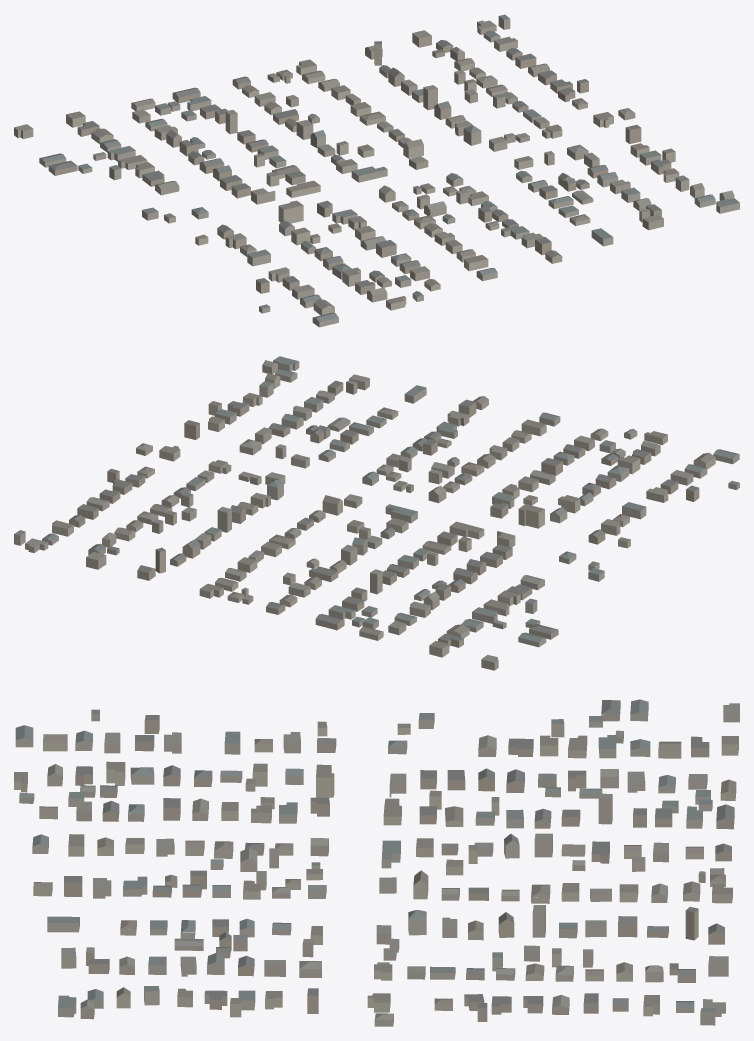
The model's file is 0d235c5c5238-chunk-1201_11840.glb.
3 renders of one model, top to bottom at view 1: azimuth 30°, elevation 25°; view 2: azimuth 150°, elevation 25°; view 3: azimuth 270°, elevation 25°, orthographic. The views are drawn at different scales.
Visible parts, largest first — view 1: no part large enough to name; view 2: building_126189; view 3: building_126189, building_25274.
Part boxes in pixels (box(x1,y1,x2,y2)): building_126189: box(518, 504, 544, 528); building_126189: box(316, 764, 334, 797); building_25274: box(47, 916, 79, 932).
Bounding box in the file's own units: 388 × 15.99 × 372.
